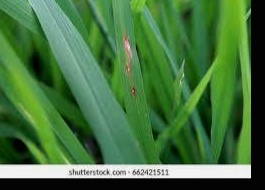Brown_Spot: (121, 29, 134, 73), (128, 79, 140, 99)
